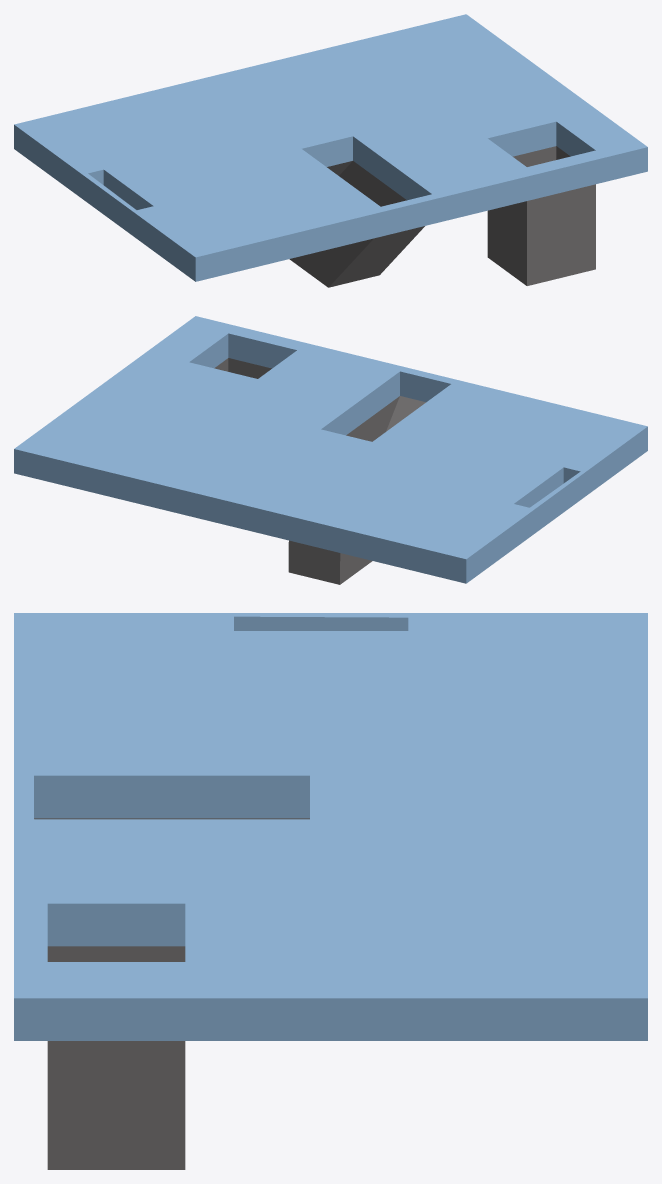
File: millfloor.fbx
3 views of the same model, one above another, from view 1: azimuth 30°, elevation 25°; view 2: azimuth 150°, elevation 25°; view 3: azimuth 270°, elevation 25° (orthographic). The views are drawn at different scales.
Parts seen in each view (by area): view 1: Cube; view 2: Cube; view 3: Cube.
Boxes of the visible parts, <box> form: Cube: <box>14,14,647,287</box>; Cube: <box>14,316,647,584</box>; Cube: <box>14,613,647,1169</box>.
Bounding box in the file's own units: 13.14 × 3.31 × 9.14.
